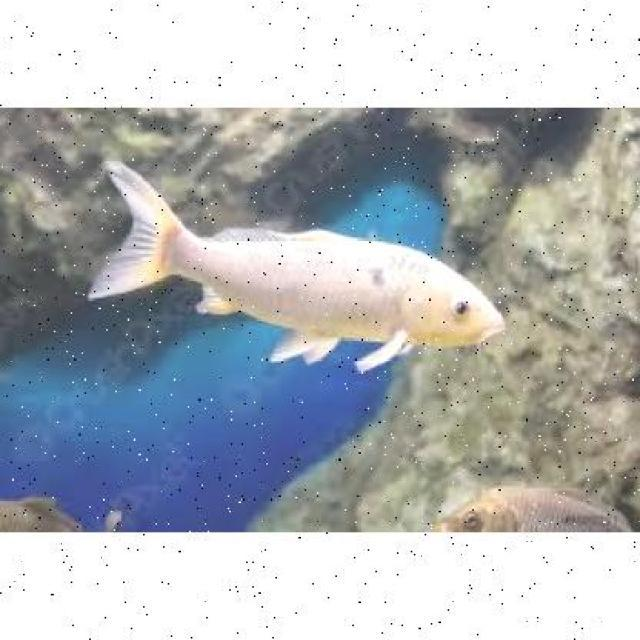ikan-mas: (99, 157, 507, 357), (438, 482, 639, 530)
